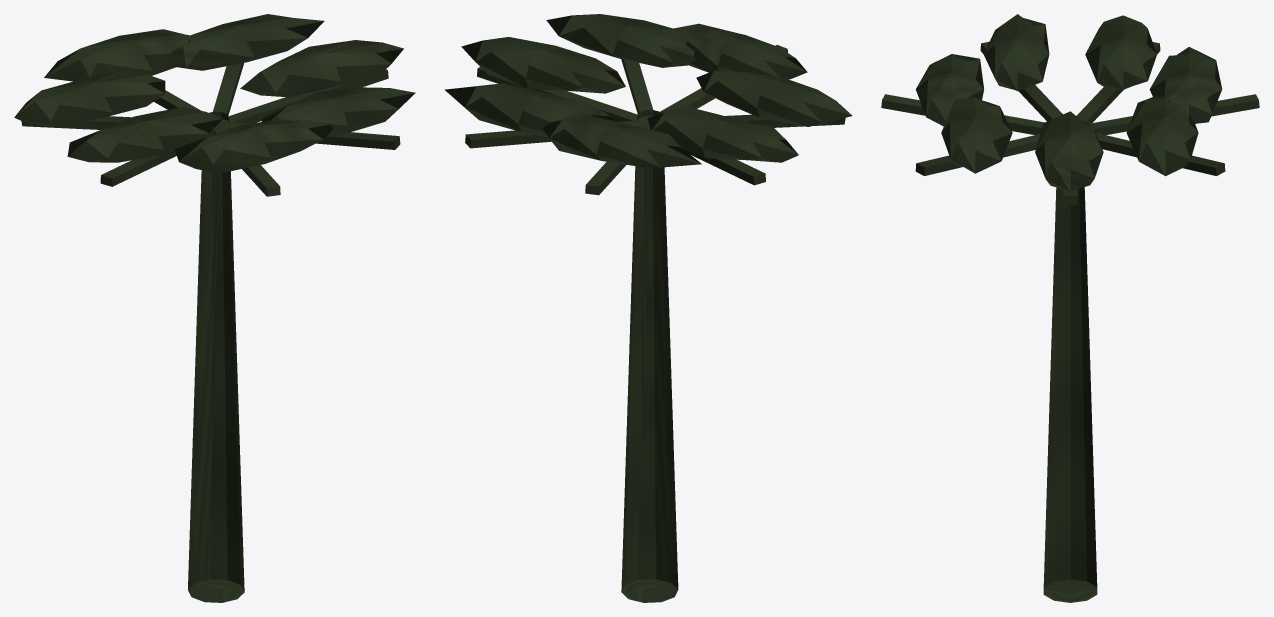
Rendered from env_tree_palm_a.glb.
The picture shows the model from 3 angles, left to right: view 1: azimuth 30°, elevation 25°; view 2: azimuth 150°, elevation 25°; view 3: azimuth 270°, elevation 25°; orthographic projection.
Parts seen in each view (by area): view 1: env_tree_palm_a; view 2: env_tree_palm_a; view 3: env_tree_palm_a.
Boxes of the visible parts, x1,y1,x2,y2 form: env_tree_palm_a: [14, 14, 415, 602]; env_tree_palm_a: [444, 14, 852, 602]; env_tree_palm_a: [881, 14, 1259, 602].
Size of the model in its own units: 3.23 by 4.37 by 2.96.
Materials: 1 (1 with a texture image).
